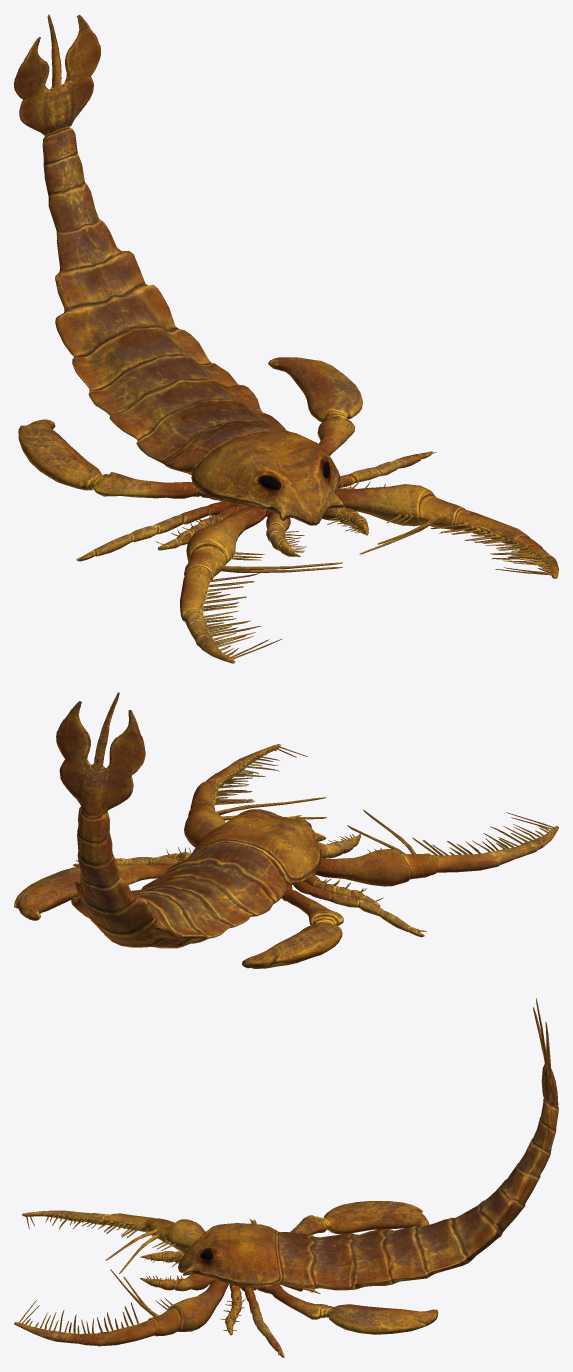
Rendered from megalograptus.glb.
3 renders of one model, top to bottom at view 1: azimuth 30°, elevation 25°; view 2: azimuth 150°, elevation 25°; view 3: azimuth 270°, elevation 25°, orthographic. The views are drawn at different scales.
Parts seen in each view (by area): view 1: node_id30_Material_51_0; view 2: node_id30_Material_51_0; view 3: node_id30_Material_51_0.
Part boxes in pixels (<box>): node_id30_Material_51_0: <box>14,14,558,663</box>; node_id30_Material_51_0: <box>14,692,558,968</box>; node_id30_Material_51_0: <box>14,998,558,1357</box>.
Size of the model in its own units: 1.83 by 1.73 by 3.
Materials: 1 (1 with a texture image).
